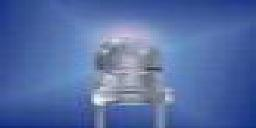LED: (89, 32, 175, 128)
